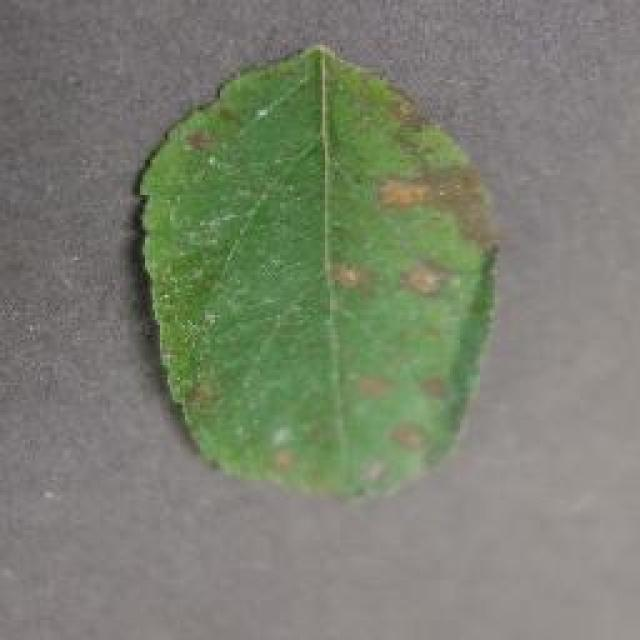apple cedar apple rust: (132, 40, 502, 505)
